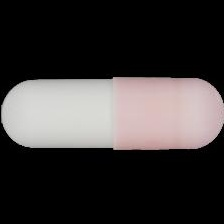0054-2531: (0, 0, 224, 224)
